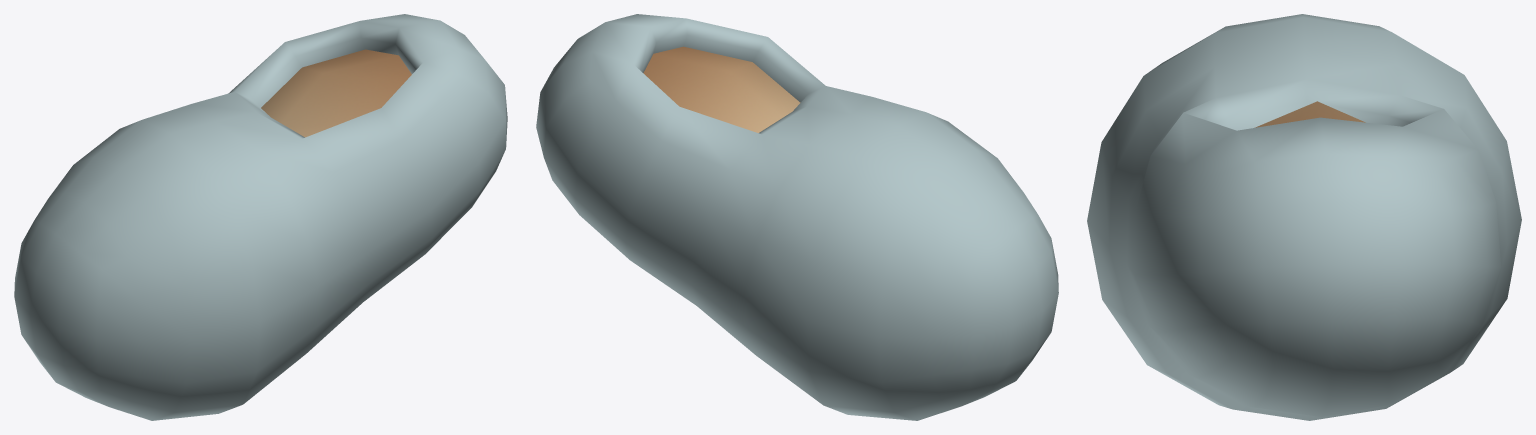
The model's file is mdl_giftBaby.fbx.
3 renders of one model, left to right at view 1: azimuth 30°, elevation 25°; view 2: azimuth 150°, elevation 25°; view 3: azimuth 270°, elevation 25°, orthographic. The views are drawn at different scales.
Parts seen in each view (by area): view 1: mdl_giftBaby; view 2: mdl_giftBaby; view 3: mdl_giftBaby.
Part boxes in pixels (<box>): mdl_giftBaby: <box>14,14,507,420</box>; mdl_giftBaby: <box>536,14,1058,420</box>; mdl_giftBaby: <box>1087,14,1521,420</box>.
Size of the model in its own units: 0.6654 by 0.4266 by 0.3725.
